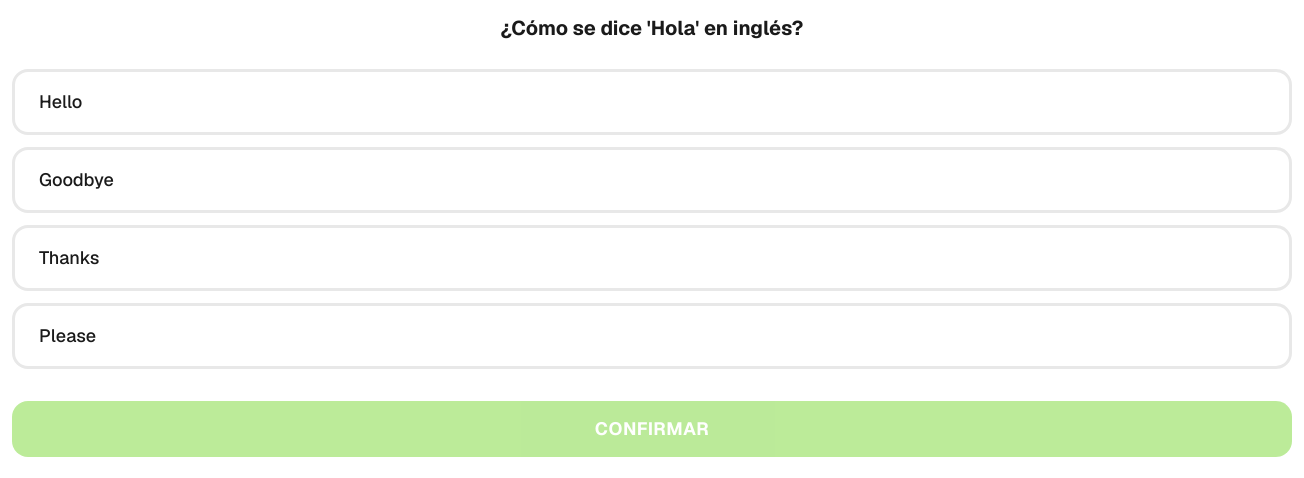
Test: ExerciseCard › habilita el botón de confirmar al seleccionar una opción
Click the button "Hello".
click(61, 101)  # box [12,68,1292,134]
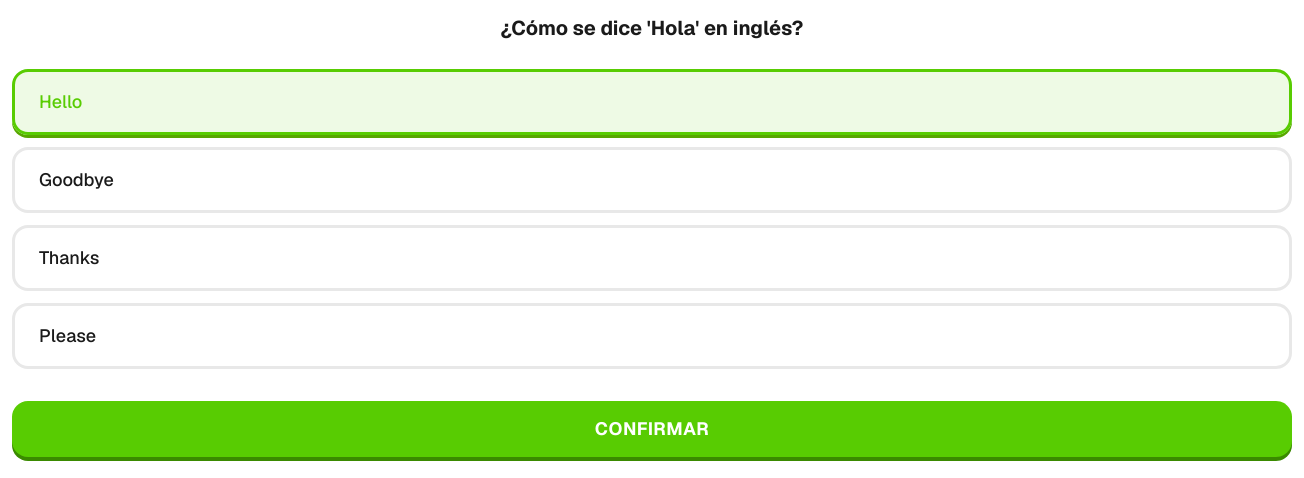
Now the button "confirmar" is enabled, box [12,400,1292,456]
